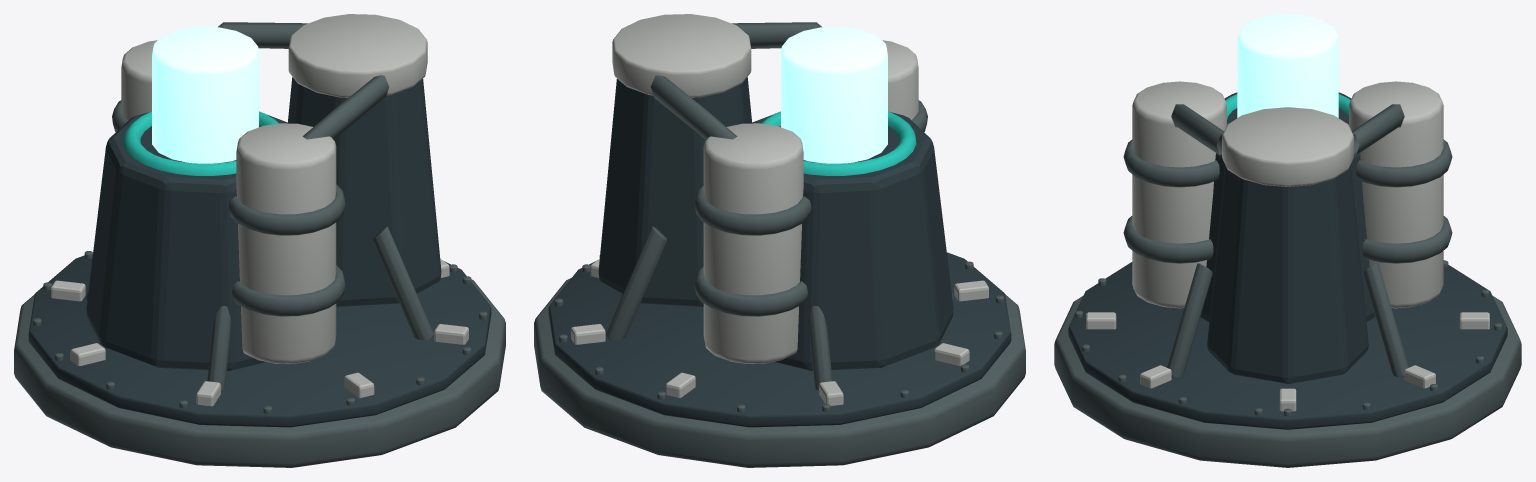
Rendered from SM_Siphon.fbx.
3 renders of one model, left to right at view 1: azimuth 30°, elevation 25°; view 2: azimuth 150°, elevation 25°; view 3: azimuth 270°, elevation 25°, orthographic. The views are drawn at different scales.
Visible parts, largest first — view 1: SM_Siphon; view 2: SM_Siphon; view 3: SM_Siphon.
Boxes of the visible parts, x1,y1,x2,y2 form: SM_Siphon: (14, 14, 505, 467); SM_Siphon: (534, 14, 1025, 467); SM_Siphon: (1054, 14, 1521, 467).
Size of the model in its own units: 152 by 152 by 112.
